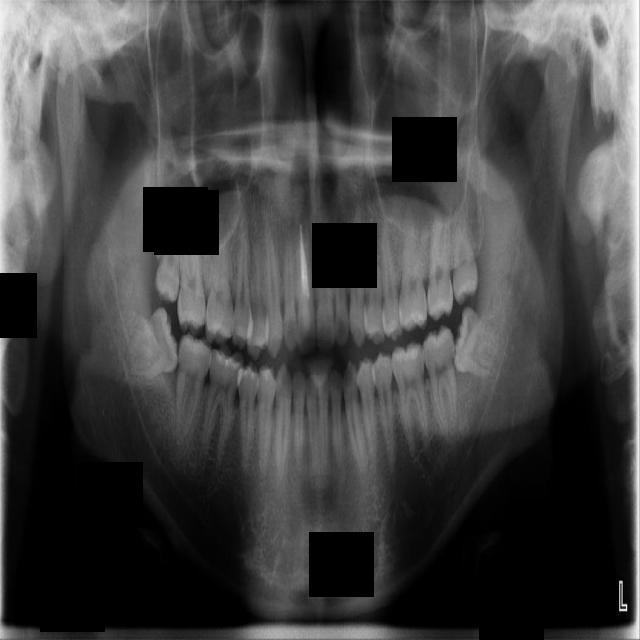3M ESPE Implant: (155, 210, 179, 305)
73: (293, 217, 314, 308), (594, 583, 612, 597)
BioHorizons Implant: (424, 212, 453, 322)
BioLife Implant: (452, 205, 479, 304)
Biomet 3i Implant: (446, 304, 510, 382)
Blue Sky Bio Implant: (419, 323, 465, 431)
Caries: (171, 229, 208, 337)
Implant: (174, 332, 213, 444)
Keystone Dental Implant: (114, 304, 187, 385)
